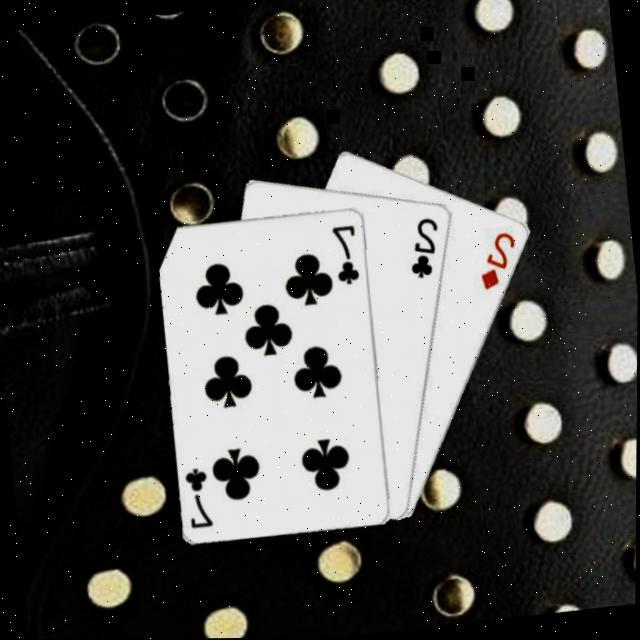2C: (404, 214, 447, 283)
2D: (475, 229, 524, 295)
7C: (182, 465, 217, 533), (329, 222, 364, 289)
